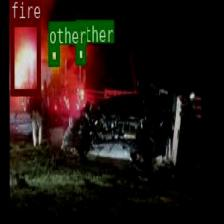fire: (10, 18, 40, 94)
